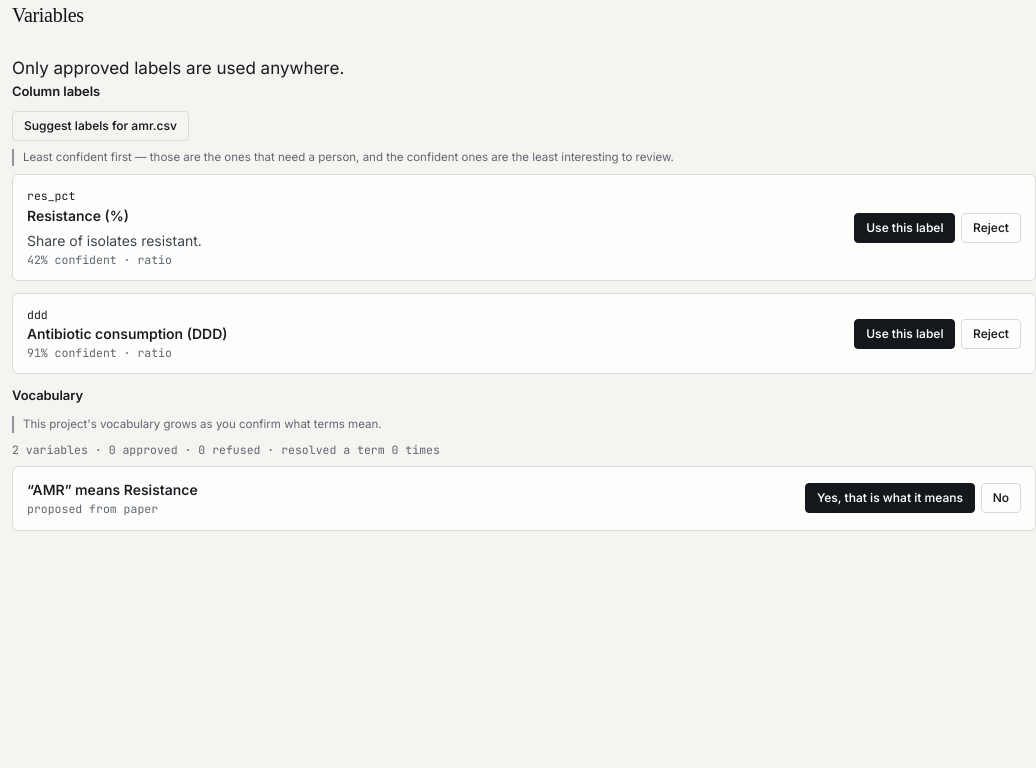
proposing labels › says what the server said when no model is configured
The image size is (1036, 768).
Click the button "Suggest labels for amr.csv": (100, 126) 12,111 -> 189,141
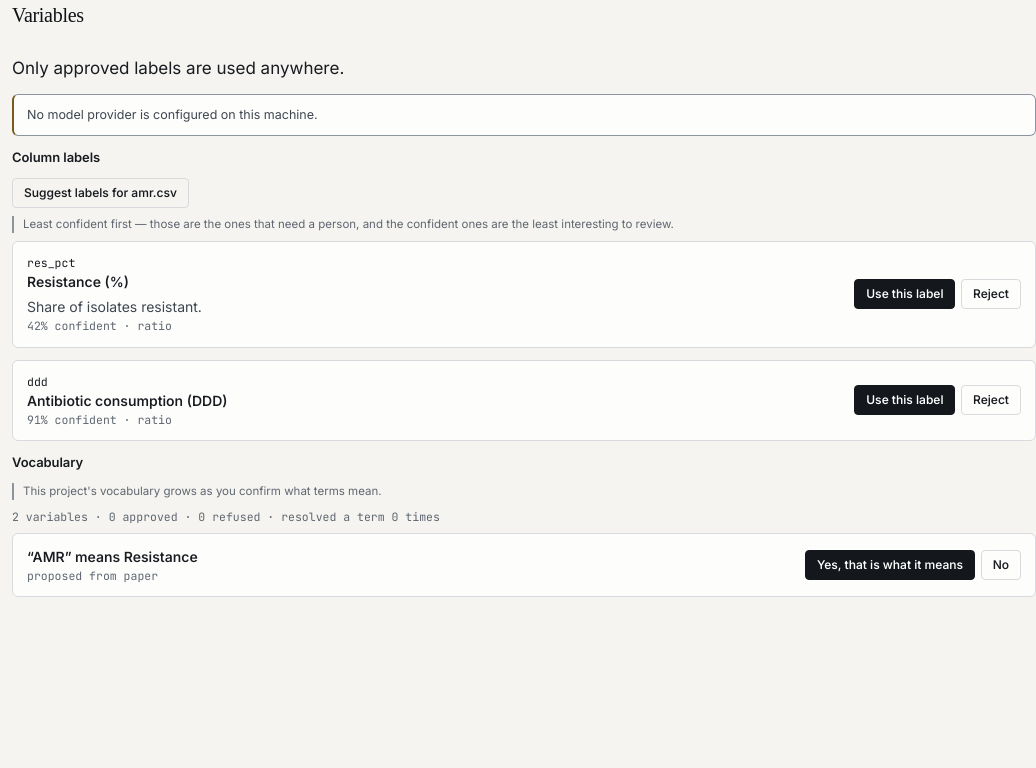
Check: the text "No model provider is configured on this machine." is shown, box 12,94 -> 1035,136
